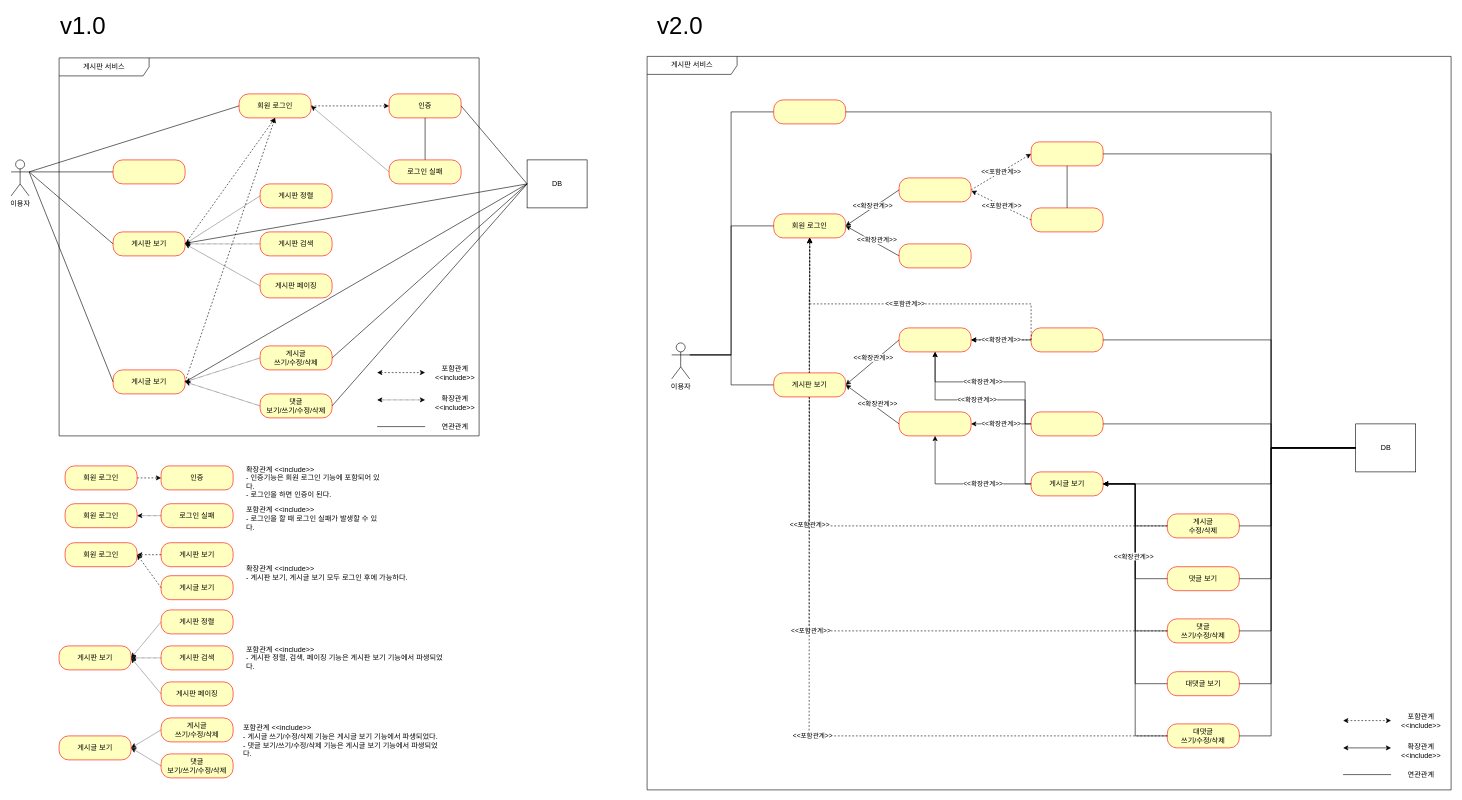
The diagram is 1462 pixels wide and 800 high, and some of its shapes have lost their labels. Here are the shapes that lost their labels. From the top down, the box of each, then its label:
(773, 99, 846, 124): 일반 회원가입
(112, 159, 185, 184): 회원가입
(1030, 141, 1103, 166): DB 인증
(898, 177, 971, 202): 일반 계정
(1030, 207, 1103, 232): 인증 실패
(898, 243, 971, 268): 소셜 계정 (kakao,naver,google)
(898, 327, 971, 352): 일반 게시판
(1030, 327, 1103, 352): 게시글 쓰기
(898, 411, 971, 436): 해시태그 게시판
(1030, 411, 1103, 436): 게시판 (페이징, 정렬, 검색, n개씩 보기)
